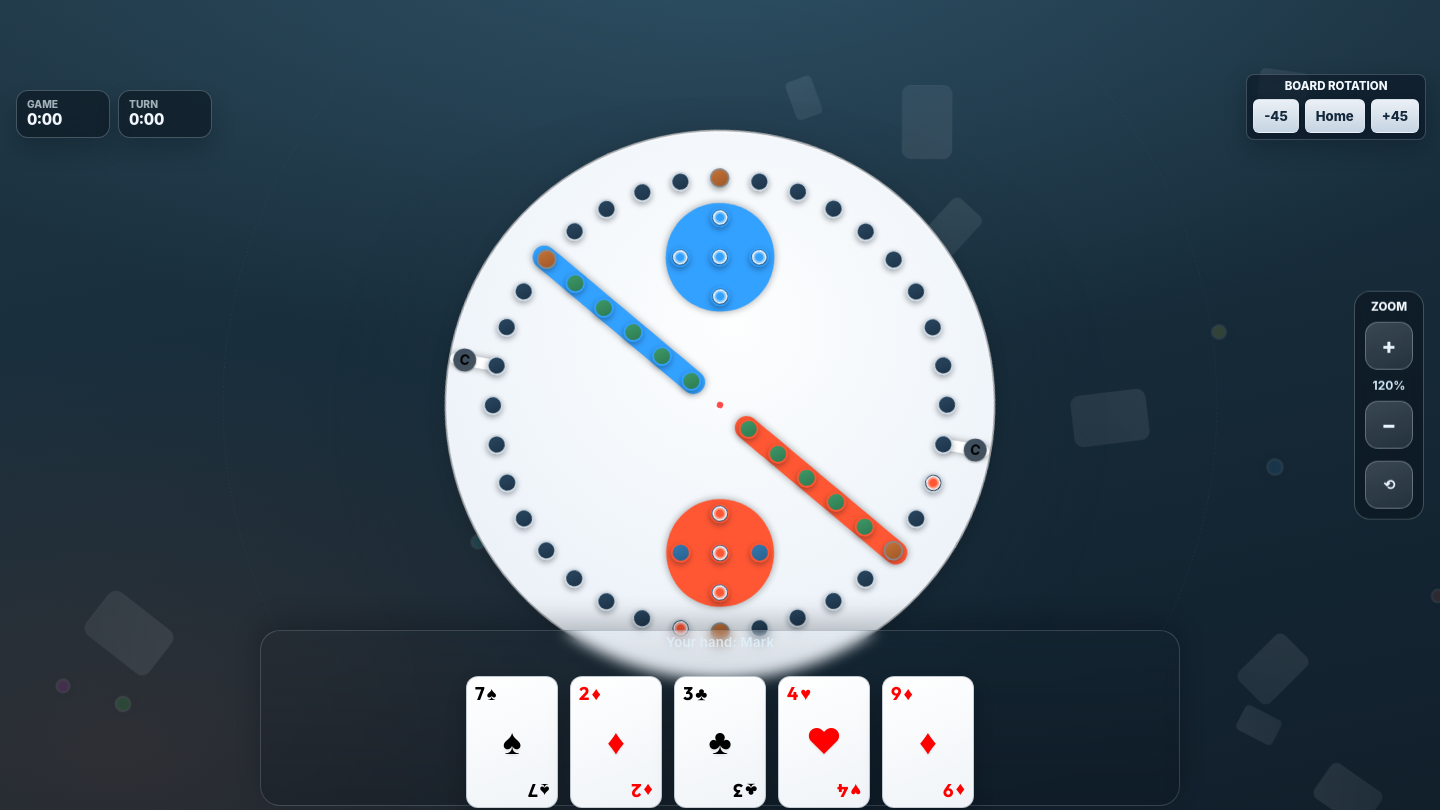
GameController discard availability › prompts for castle entry on second half of seven split when both routes are legal
The width and height of the screenshot is (1440, 810).
Click the element with test id "card-p1-7s" at x=512, y=742, box [466, 676, 558, 808]
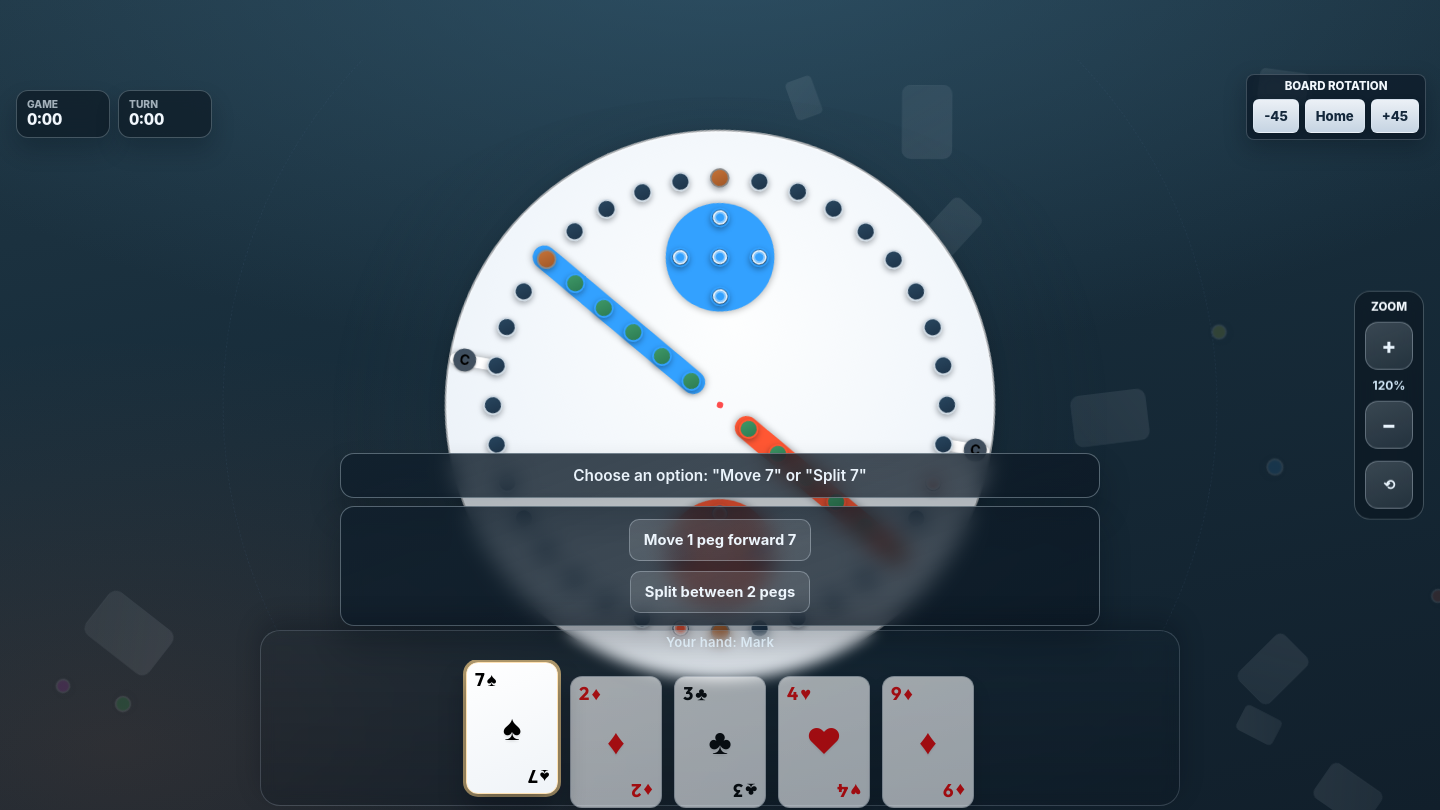
Click the button with test id "seven-option-split" at x=720, y=592, box [630, 571, 810, 613]
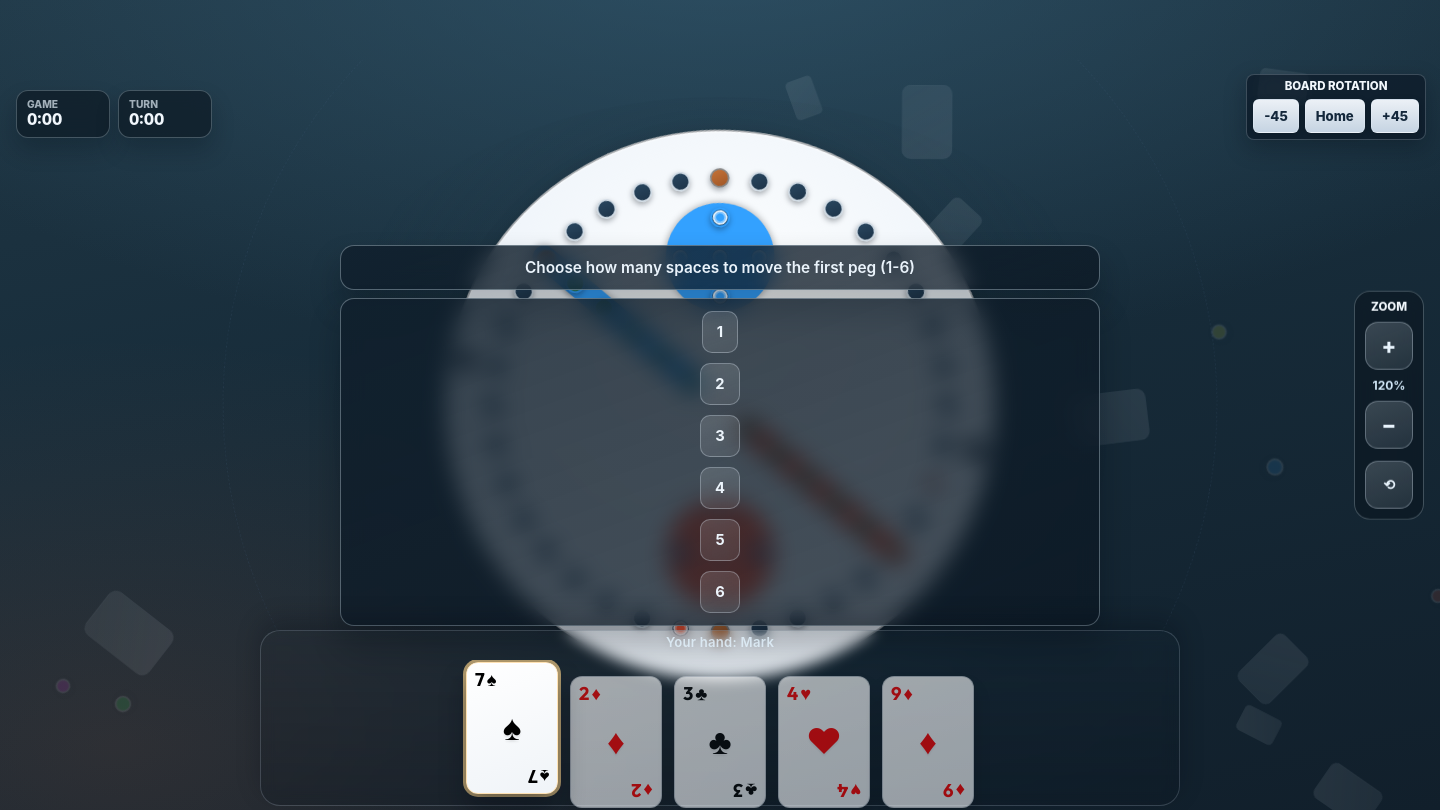
Click the button with test id "seven-step-2" at x=720, y=384, box [700, 363, 740, 405]
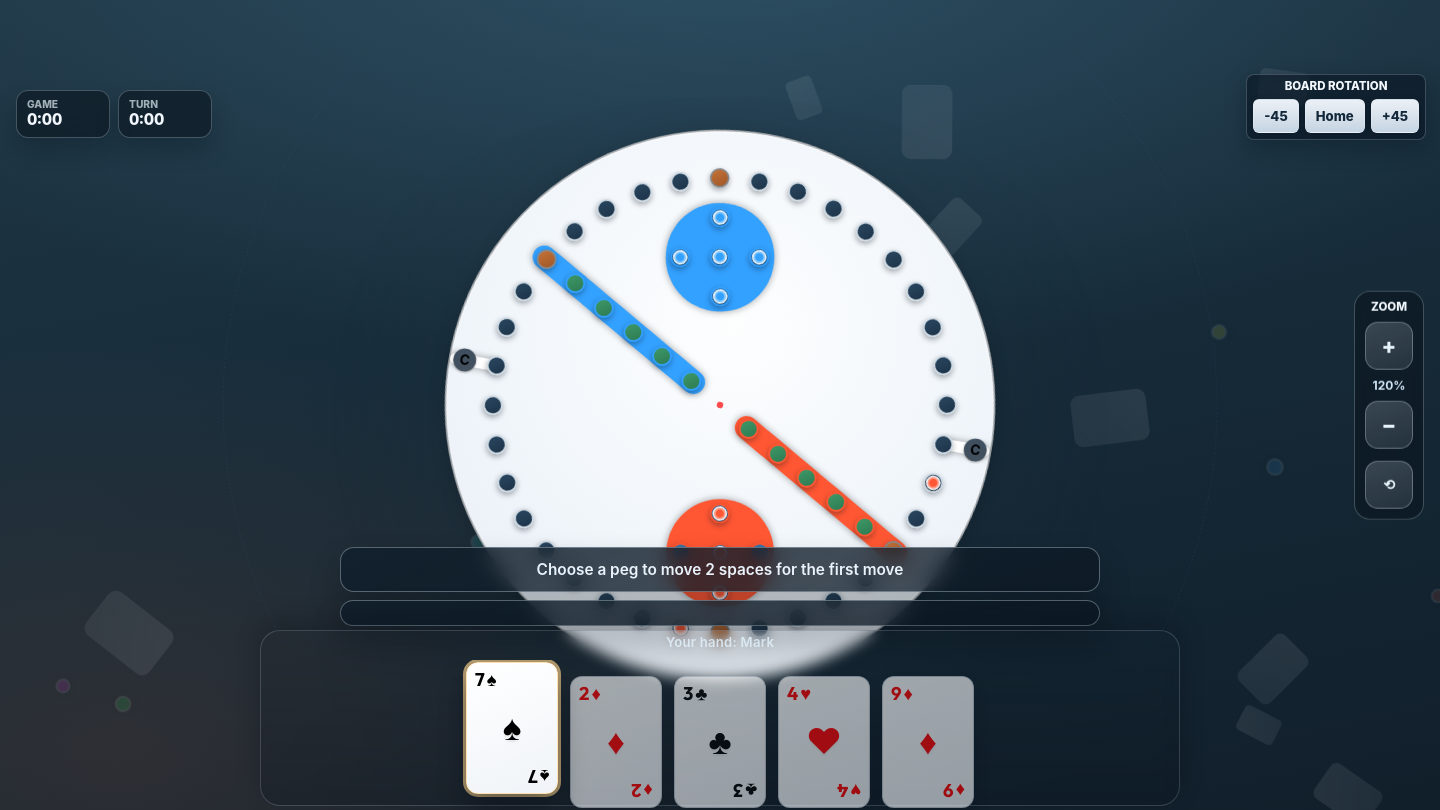
Click the element with test id "peg-player-1-peg-1" at x=681, y=628, box [672, 620, 689, 637]
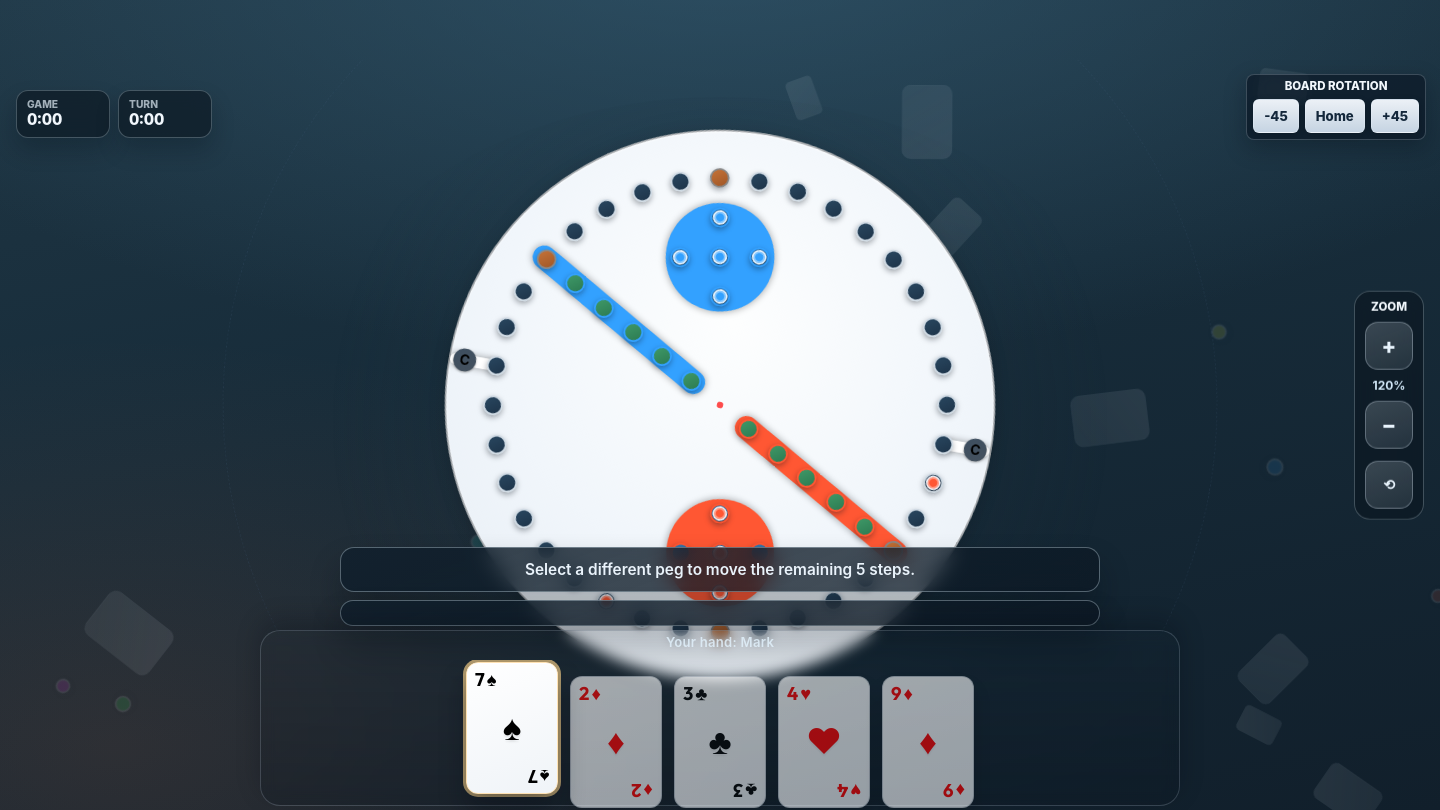
Result: the text "Select a different peg to move the remaining 5 steps." is shown at [525, 560, 915, 579]
Click the element with test id "peg-player-1-peg-2" at x=933, y=483, box [925, 474, 942, 491]
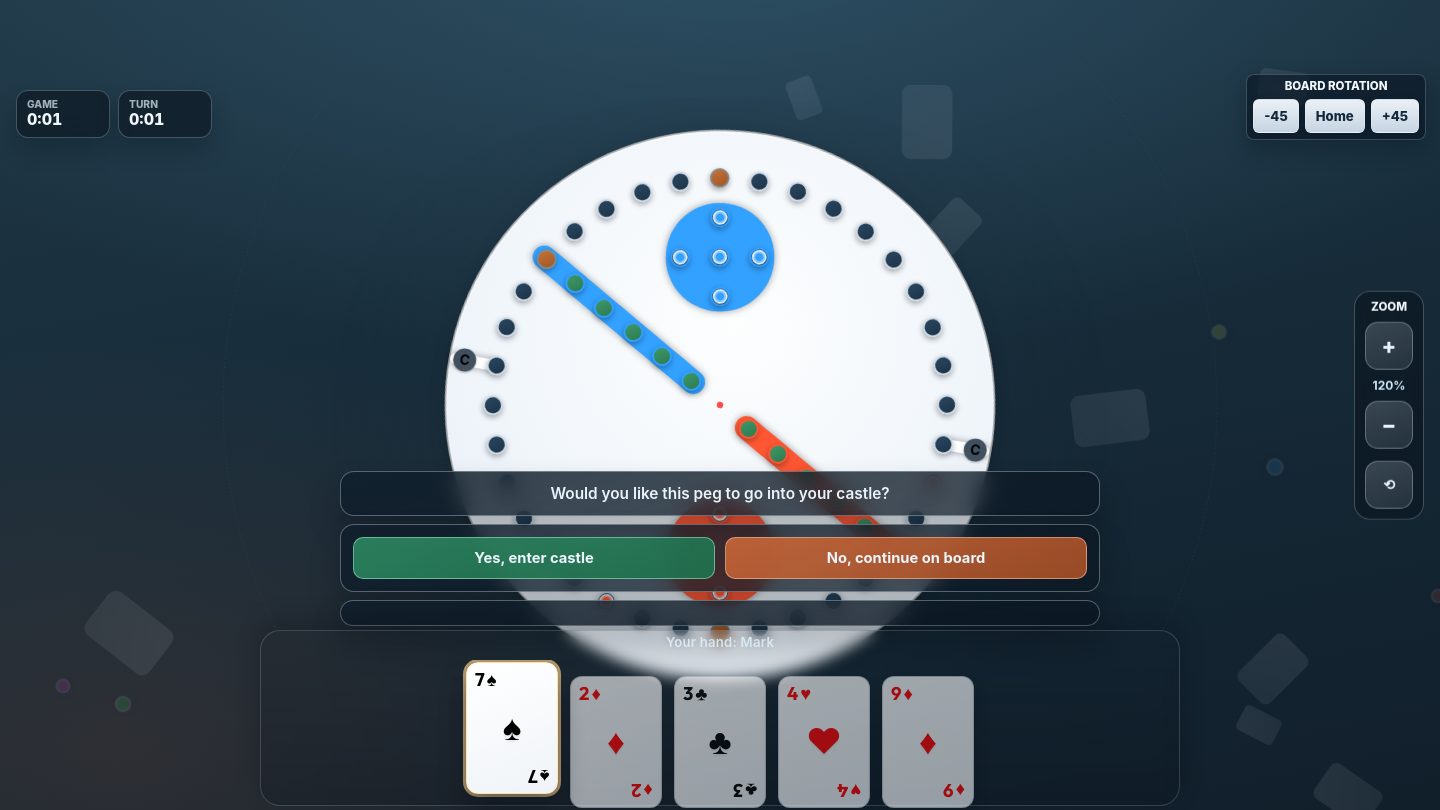
Result: the text "Would you like this peg to go into your castle?" is shown at [550, 484, 890, 503]
Result: the button "Yes, enter castle" is shown at [353, 537, 715, 579]
Result: the button "No, continue on board" is shown at [725, 537, 1087, 579]
